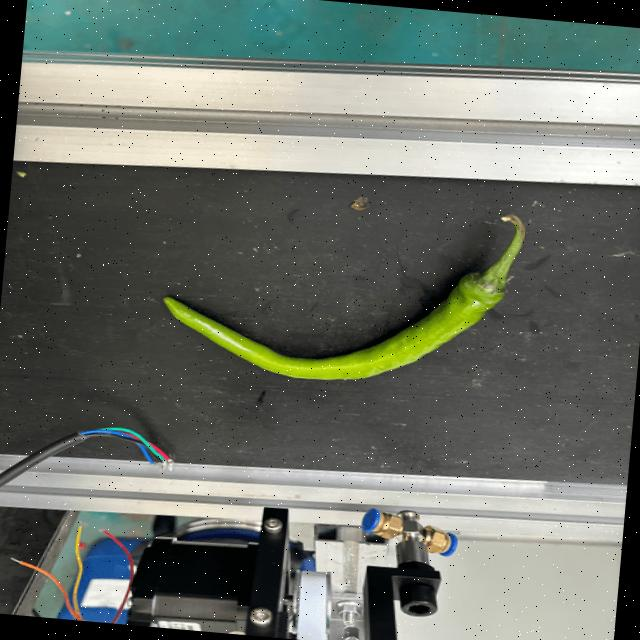chili: (160, 268, 505, 380)
